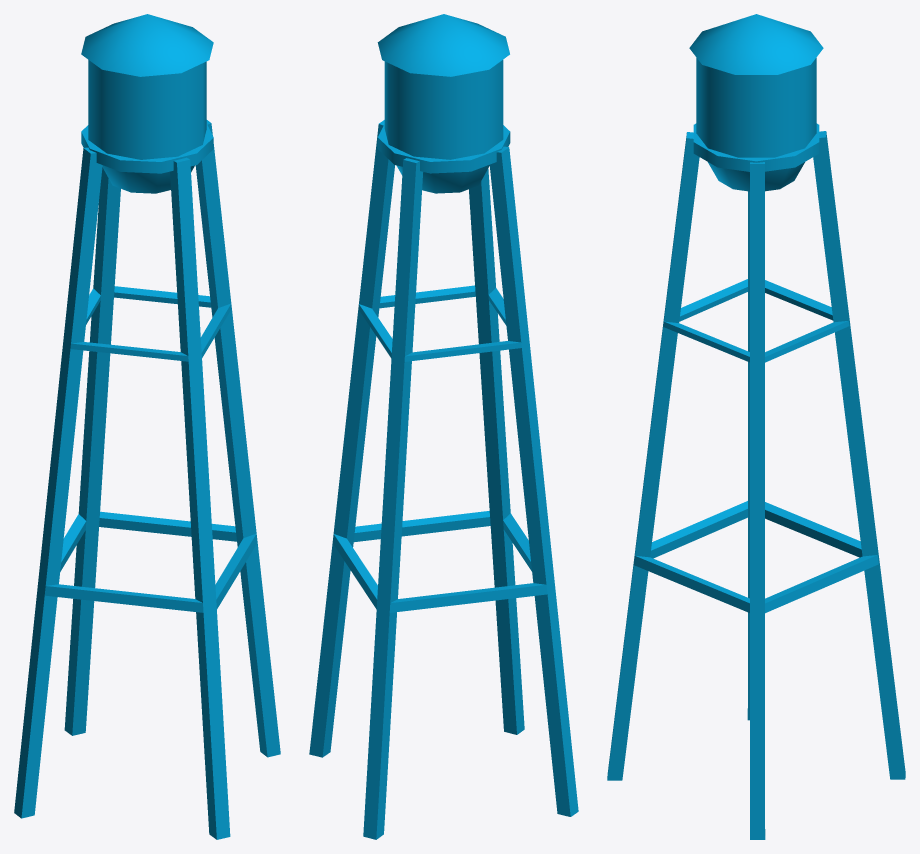
Rendered from Water_Tower_Lod2.fbx.
The picture shows the model from 3 angles, left to right: view 1: azimuth 30°, elevation 25°; view 2: azimuth 150°, elevation 25°; view 3: azimuth 270°, elevation 25°; orthographic projection.
Parts seen in each view (by area): view 1: Water_Tower_Lod2; view 2: Water_Tower_Lod2; view 3: Water_Tower_Lod2.
Boxes of the visible parts, bbox=[...] form: Water_Tower_Lod2: bbox=[14, 14, 280, 839]; Water_Tower_Lod2: bbox=[309, 14, 578, 839]; Water_Tower_Lod2: bbox=[607, 14, 905, 839].
Bounding box in the file's own units: 964 × 2719 × 964.
